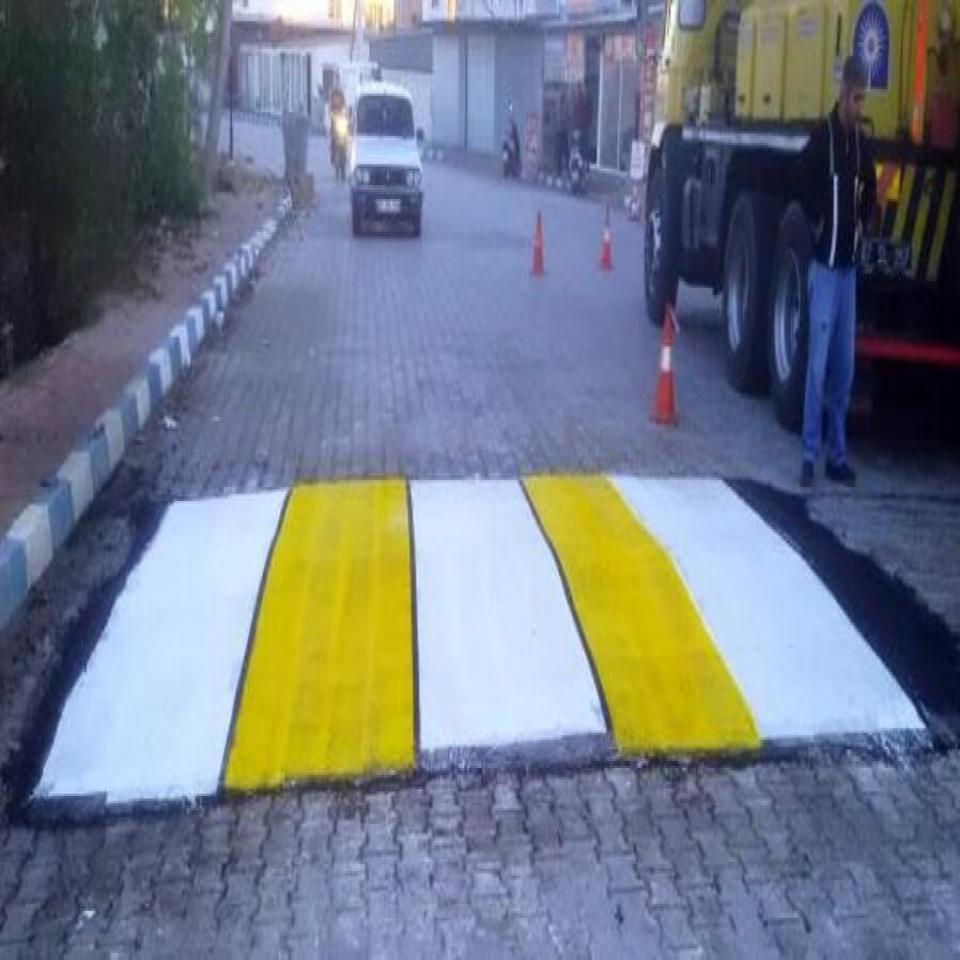speedbreaker: (134, 492, 828, 742)
